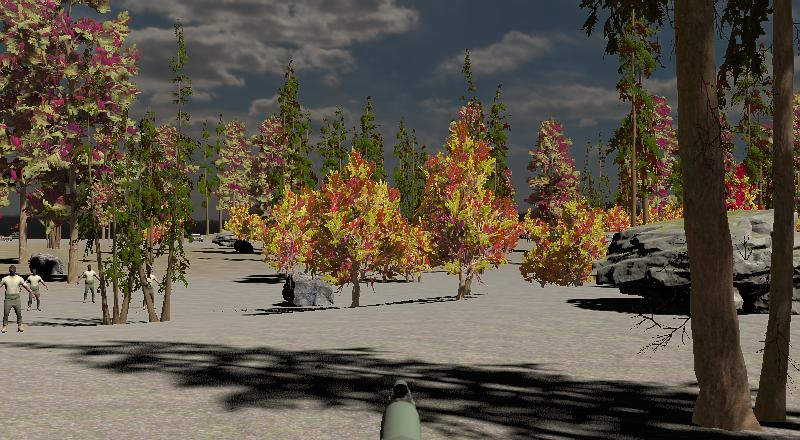Human: (0, 263, 38, 334), (23, 264, 50, 314)
